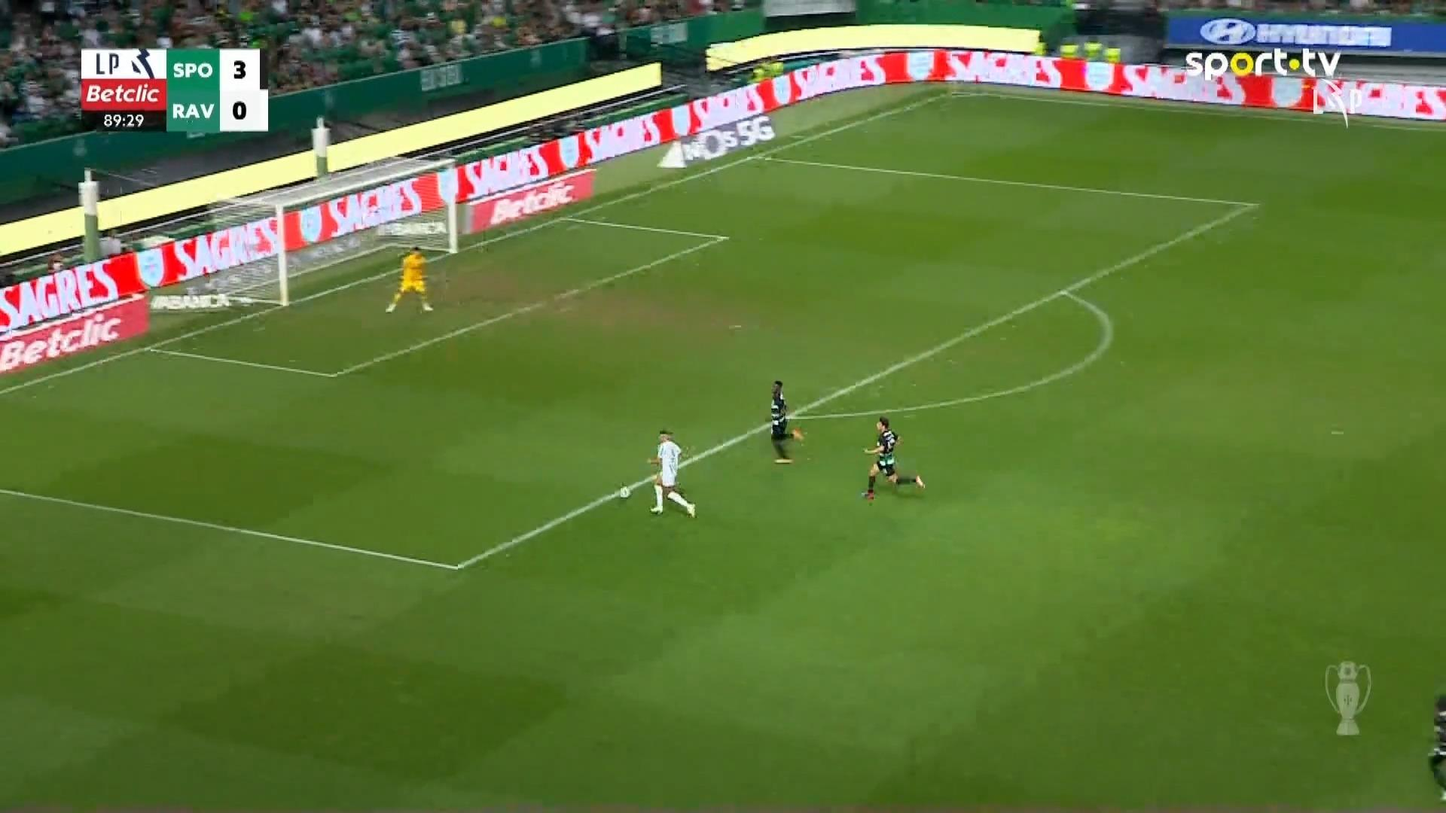ball: (618, 486, 630, 498)
goalkeeper: (384, 244, 434, 314)
player: (860, 416, 925, 500), (645, 428, 697, 519), (767, 379, 805, 464)
